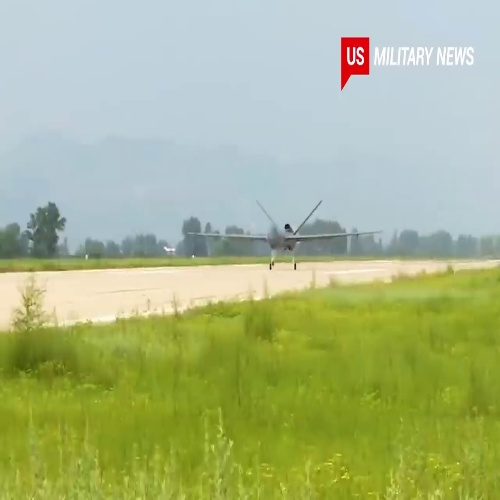uav15: (183, 196, 386, 272)
